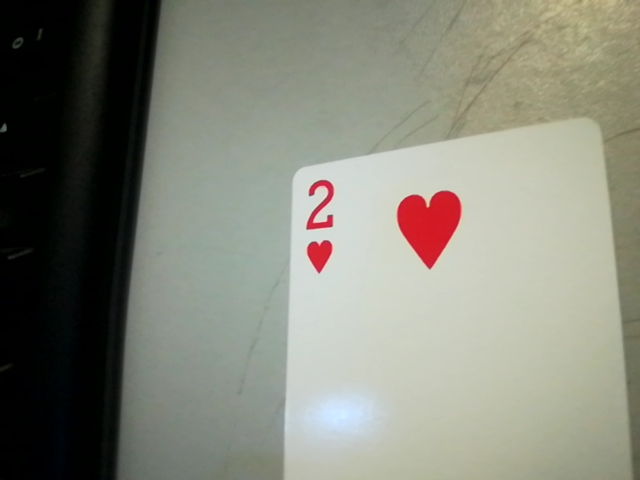hx 2: (290, 169, 349, 278)
